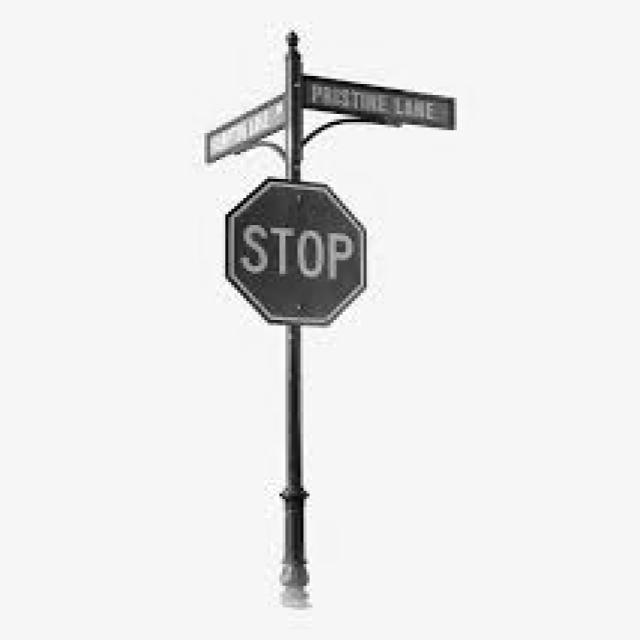stop sign: (229, 172, 369, 326)
